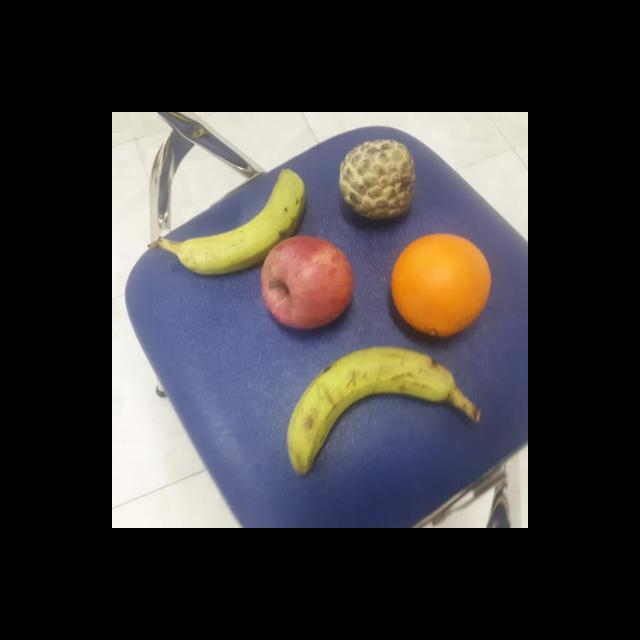Sakya fruit: (336, 138, 417, 222)
apple: (258, 236, 356, 329)
banana: (282, 346, 458, 478), (172, 162, 308, 278)
orange: (388, 232, 494, 339)
